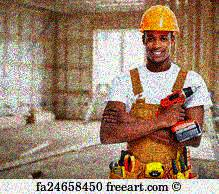helmet: (137, 3, 181, 65)
